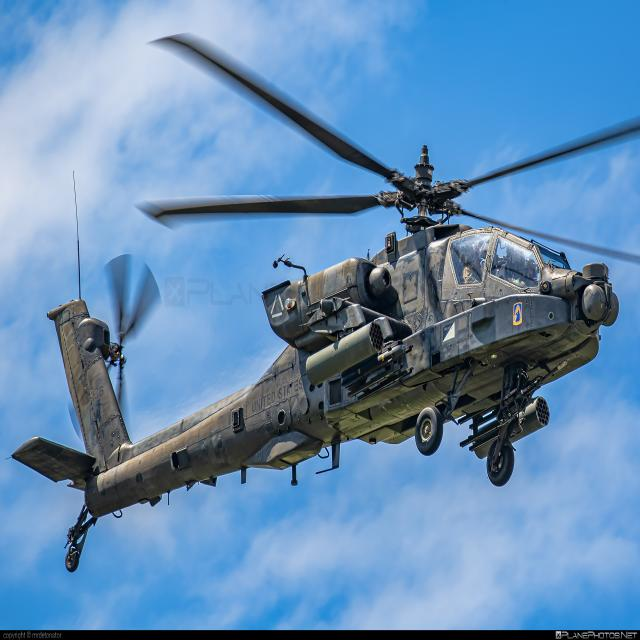Apache: (14, 24, 640, 579)
